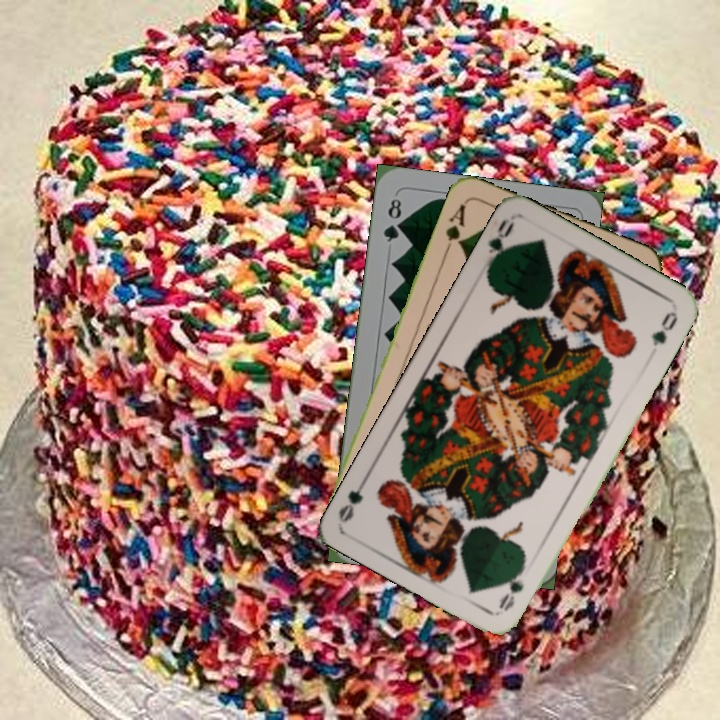G8: (379, 194, 405, 245)
GA: (440, 200, 469, 256)
GO: (483, 215, 517, 272), (494, 558, 528, 614)
